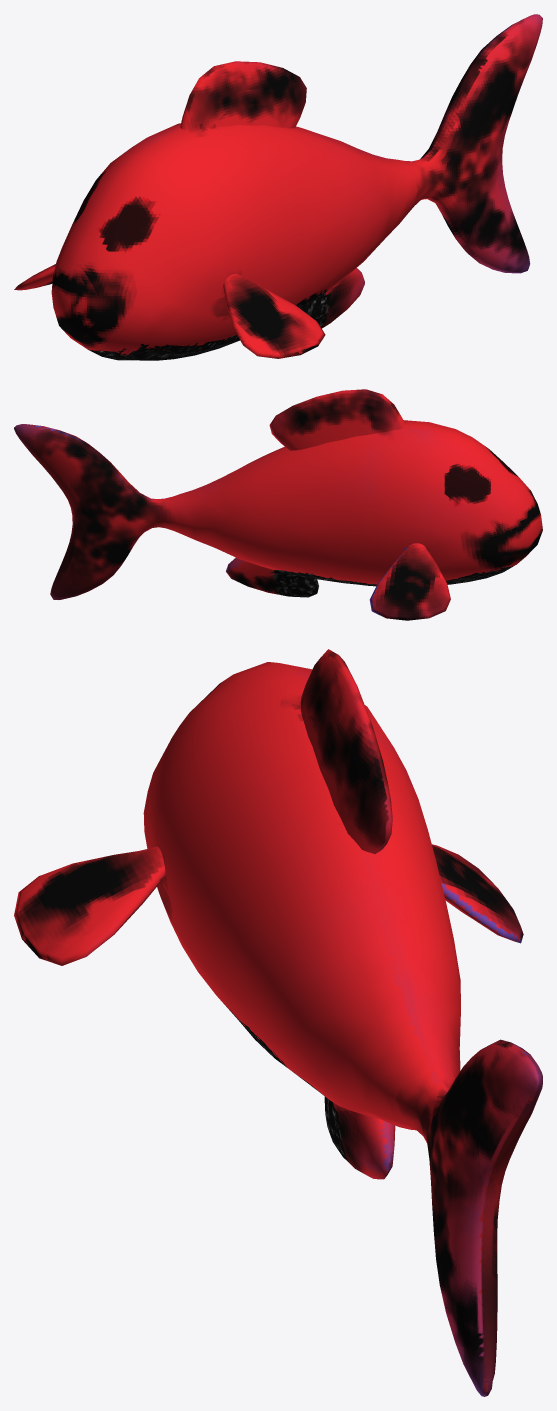
File: fish.glb
The picture shows the model from 3 angles, top to bottom: view 1: azimuth 30°, elevation 25°; view 2: azimuth 150°, elevation 25°; view 3: azimuth 270°, elevation 25°; orthographic projection. The views are drawn at different scales.
Bounding box in the file's own units: 0.2345 × 0.1261 × 0.1251.
1 material, 1 textured.
